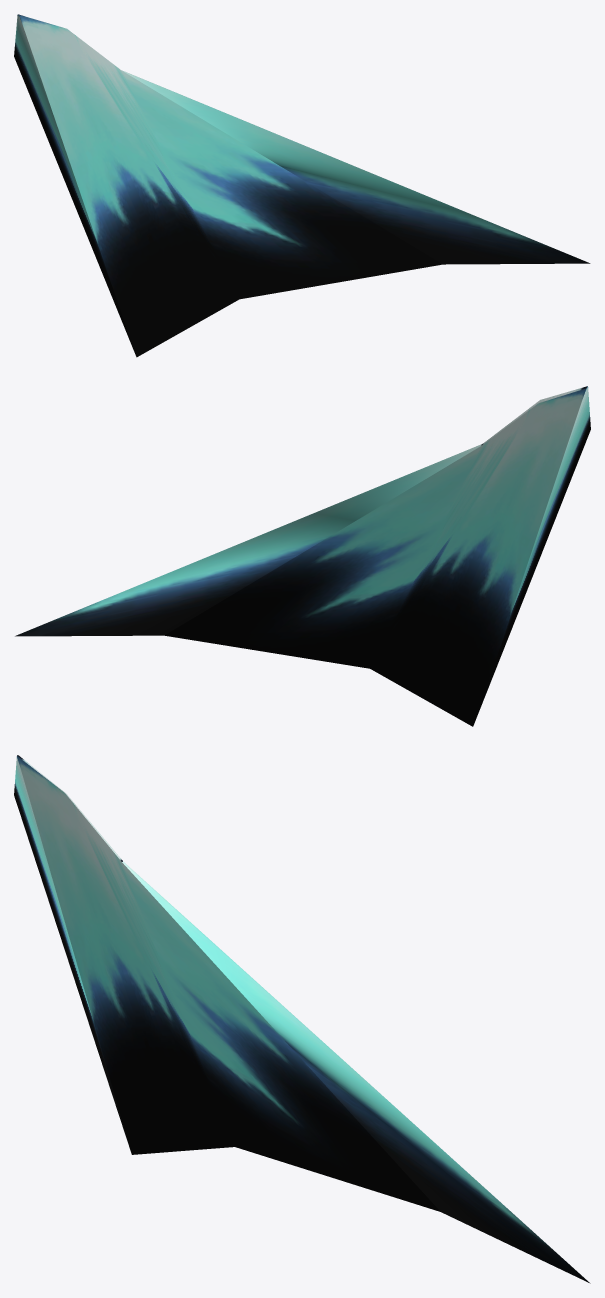
The model's file is PSB016_effect.FBX.
3 renders of one model, top to bottom at view 1: azimuth 30°, elevation 25°; view 2: azimuth 150°, elevation 25°; view 3: azimuth 330°, elevation 25°, orthographic.
Parts seen in each view (by area): view 1: PSB016; view 2: PSB016; view 3: PSB016.
Boxes of the visible parts, x1,y1,x2,y2 form: PSB016: (14, 14, 590, 357); PSB016: (15, 386, 590, 726); PSB016: (14, 755, 590, 1283).
Size of the model in its own units: 56.6 by 36.5 by 0.7.
1 material, 1 textured.
